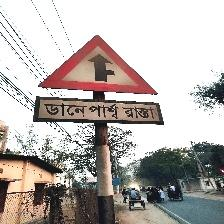Side-road-right: (35, 35, 163, 126)
